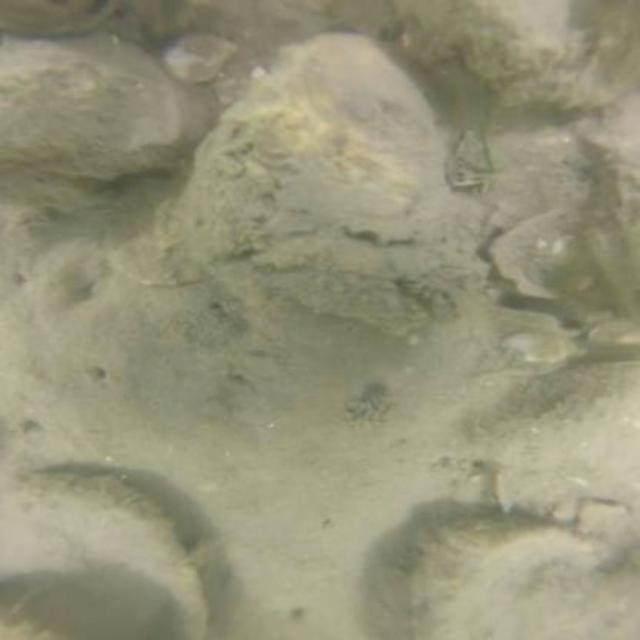Oyster-Closed: (167, 27, 472, 344), (0, 468, 220, 640), (400, 512, 640, 640), (8, 25, 186, 183), (398, 0, 640, 114), (0, 0, 120, 38)
